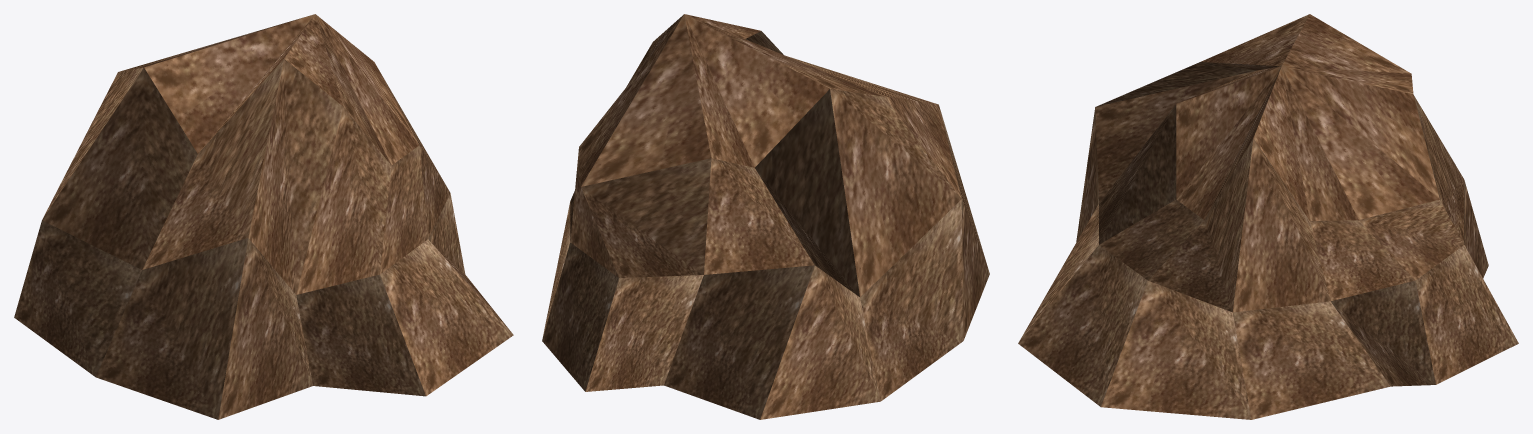
The model's file is pile-1.fbx.
3 renders of one model, left to right at view 1: azimuth 30°, elevation 25°; view 2: azimuth 150°, elevation 25°; view 3: azimuth 270°, elevation 25°, orthographic.
Parts seen in each view (by area): view 1: sphere; view 2: sphere; view 3: sphere.
Boxes of the visible parts, box(x1,y1,x2,y2) form: sphere: box(14, 14, 513, 419); sphere: box(542, 14, 989, 419); sphere: box(1018, 14, 1518, 419).
Bounding box in the file's own units: 106 × 75 × 119.
Materials: 1 (1 with a texture image).
